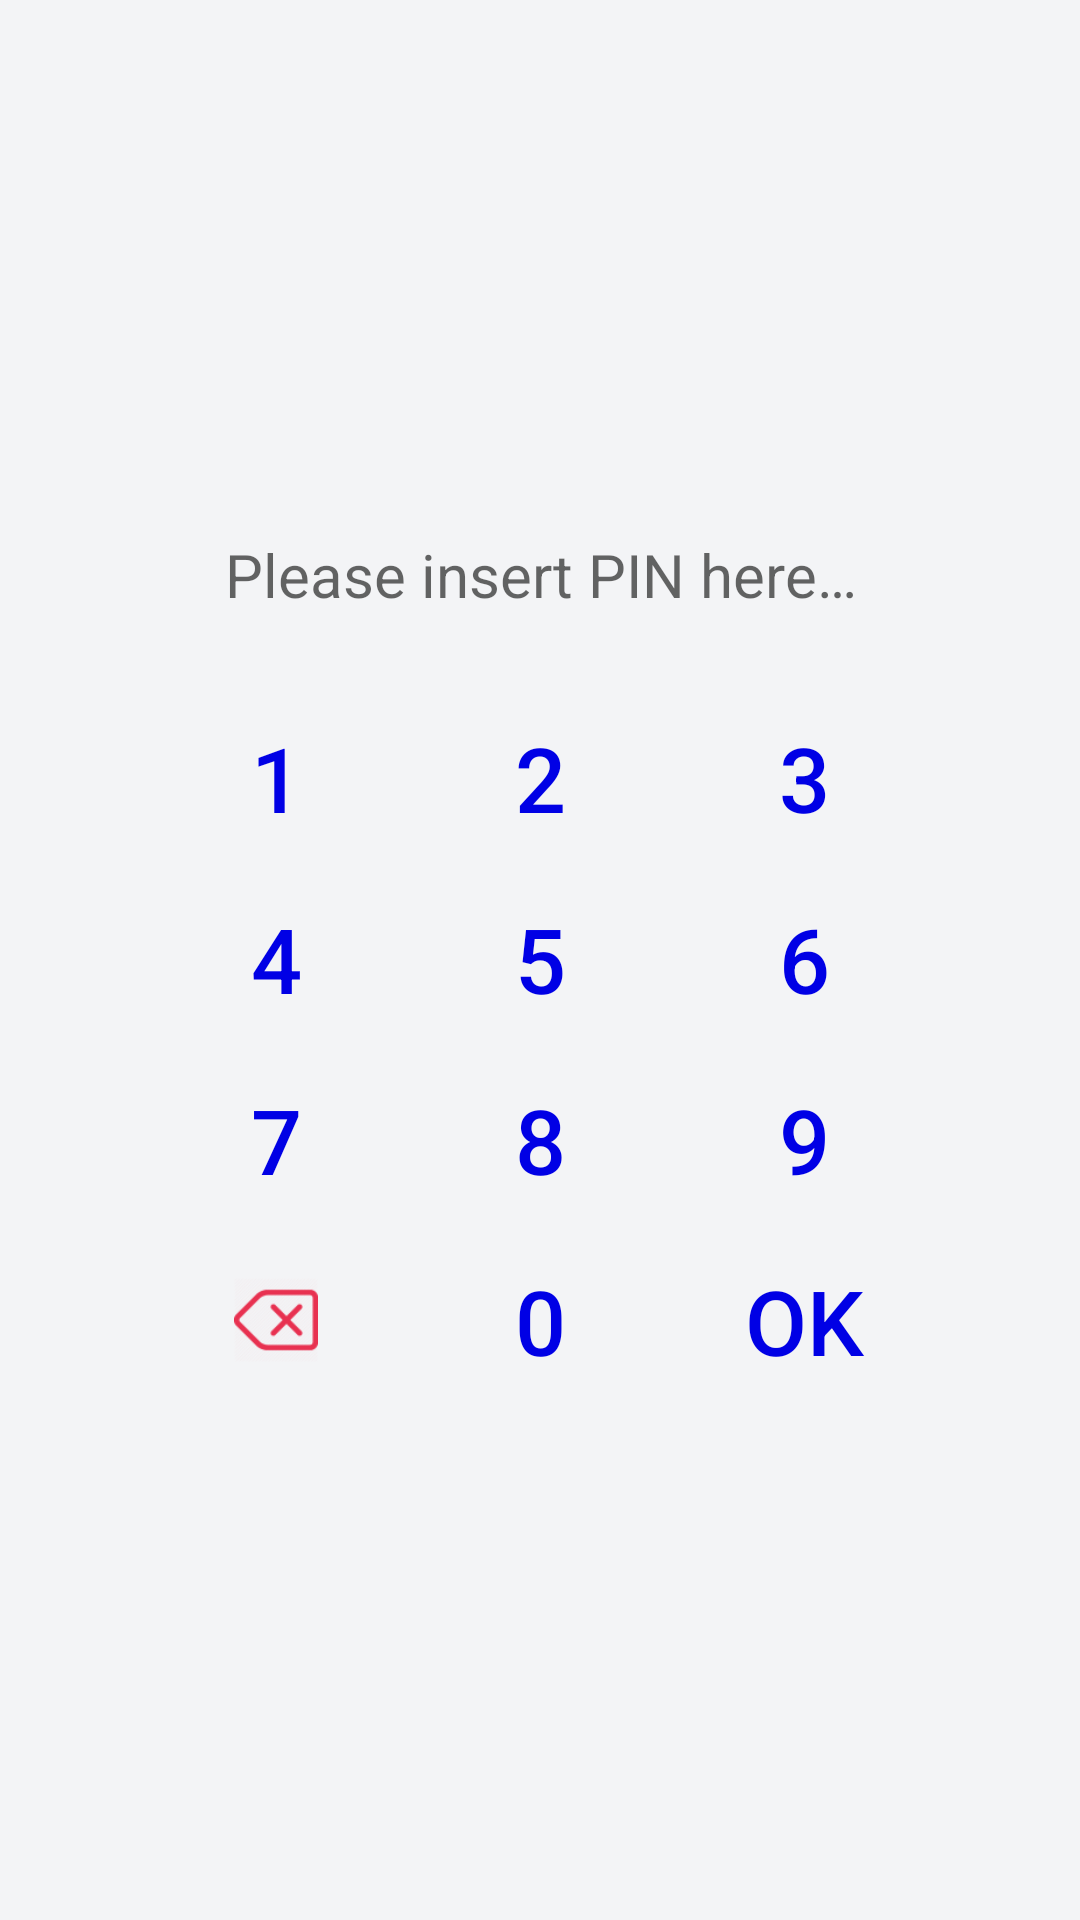

Where to tap for icons on this 1080px x 1920px app screen, as (x=x, y=y):
Delete text: (x=276, y=1320)
